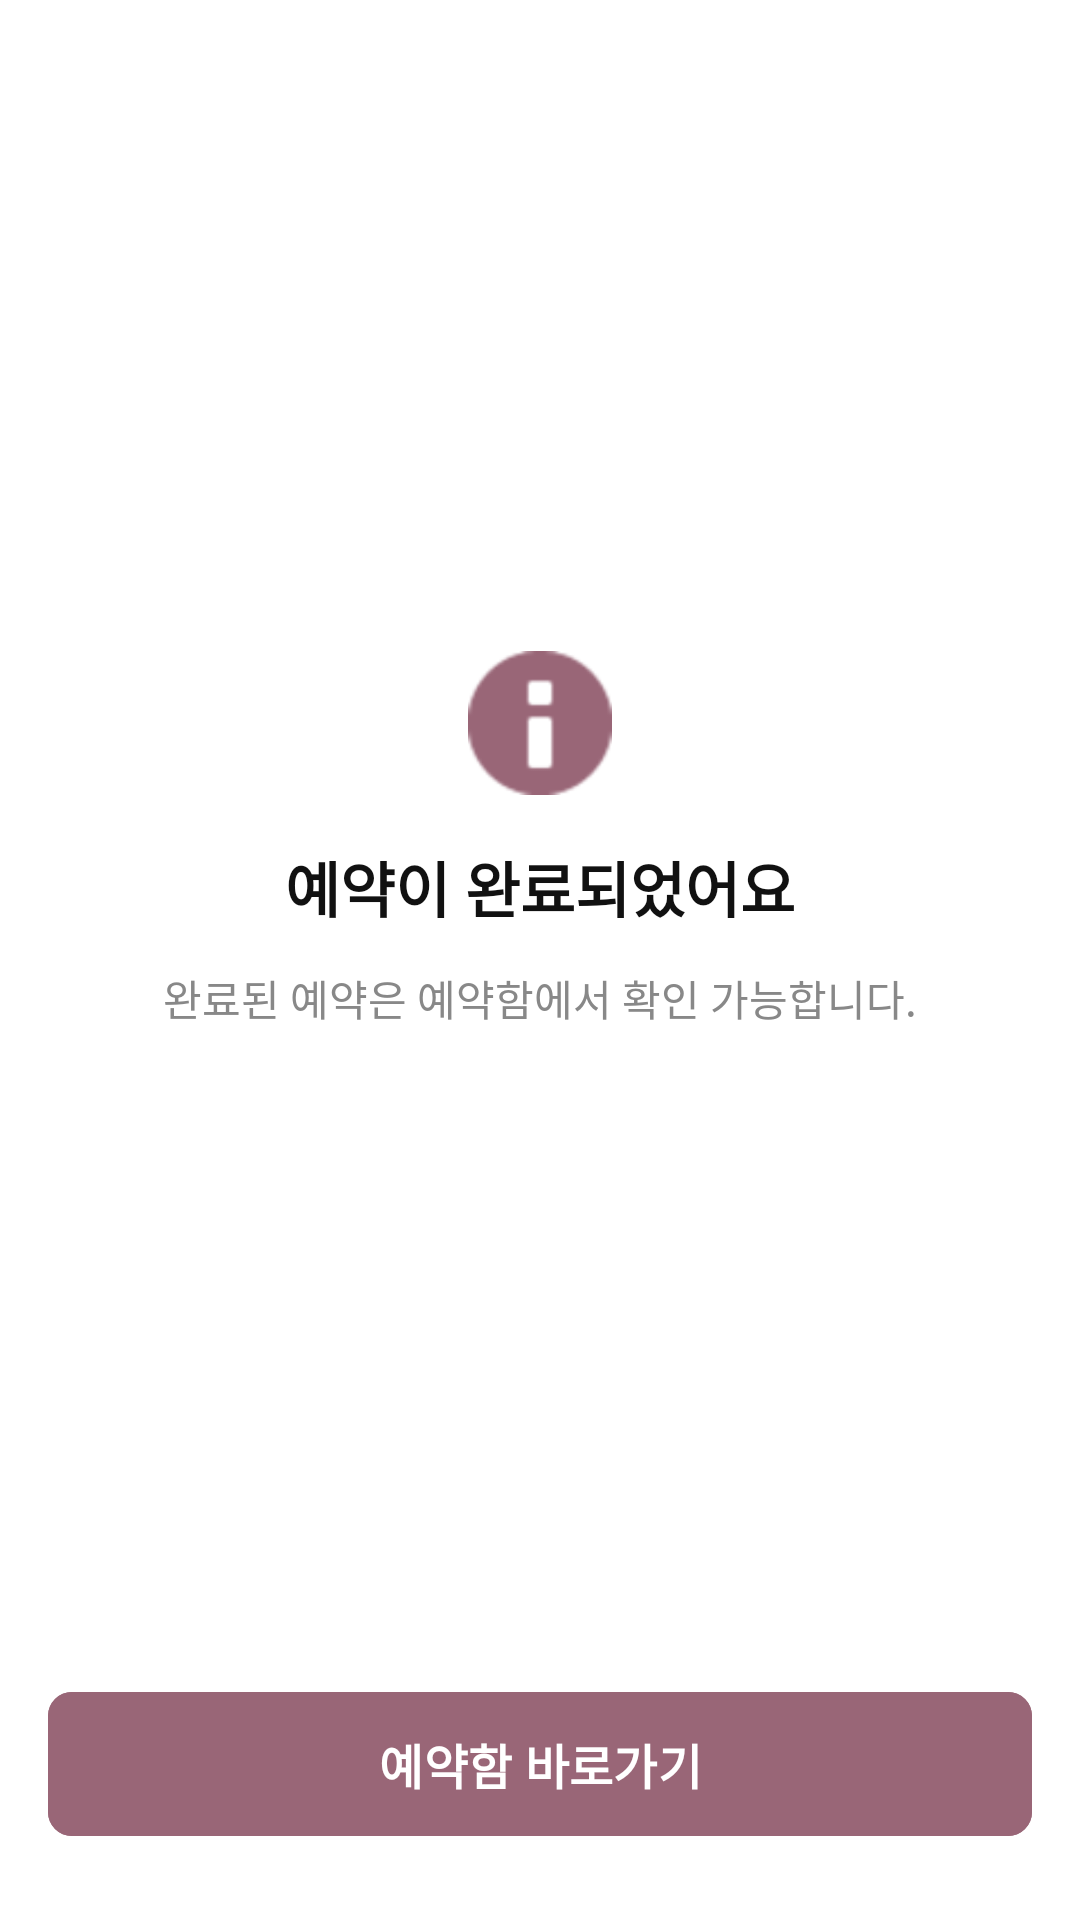

Named icons in this screenshot (1080w x 1920h) and their bounding boxes, (x1, y1, x2, y2):
info: (468, 651, 612, 795)
